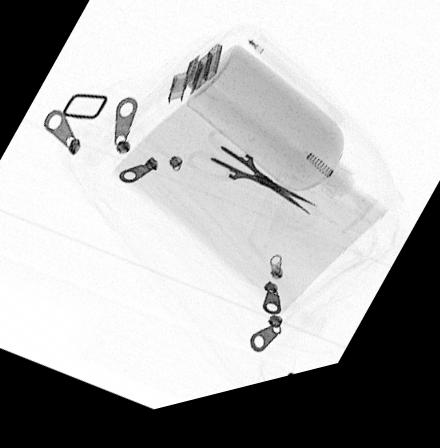Scissors: (186, 136, 317, 233)
